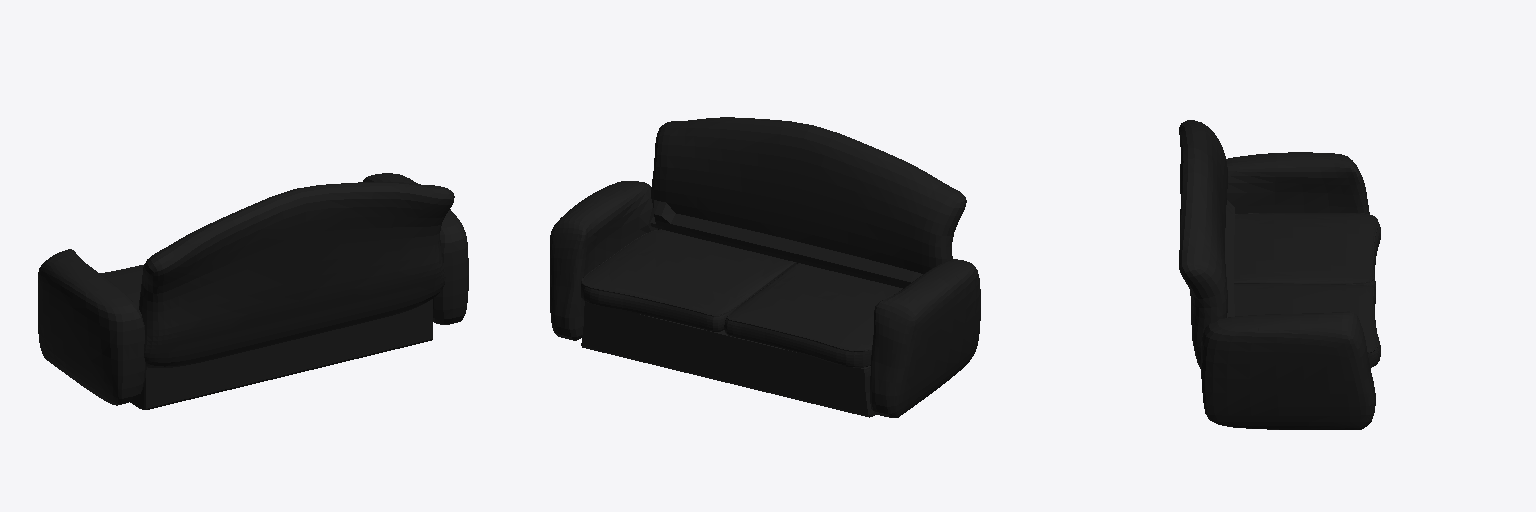
Rendered from couch_real6.obj.
The picture shows the model from 3 angles: view 1: azimuth 30°, elevation 25°; view 2: azimuth 150°, elevation 25°; view 3: azimuth 270°, elevation 25°; orthographic projection.
Visible parts, largest first — view 1: sofa_Cube_Material.004; view 2: sofa_Cube_Material.004; view 3: sofa_Cube_Material.004.
Part boxes in pixels (left/top/right/bottom): sofa_Cube_Material.004: left=38, top=173, right=468, bottom=409; sofa_Cube_Material.004: left=550, top=117, right=980, bottom=417; sofa_Cube_Material.004: left=1179, top=120, right=1380, bottom=429.
Size of the model in its own units: 10 by 5.04 by 4.74.